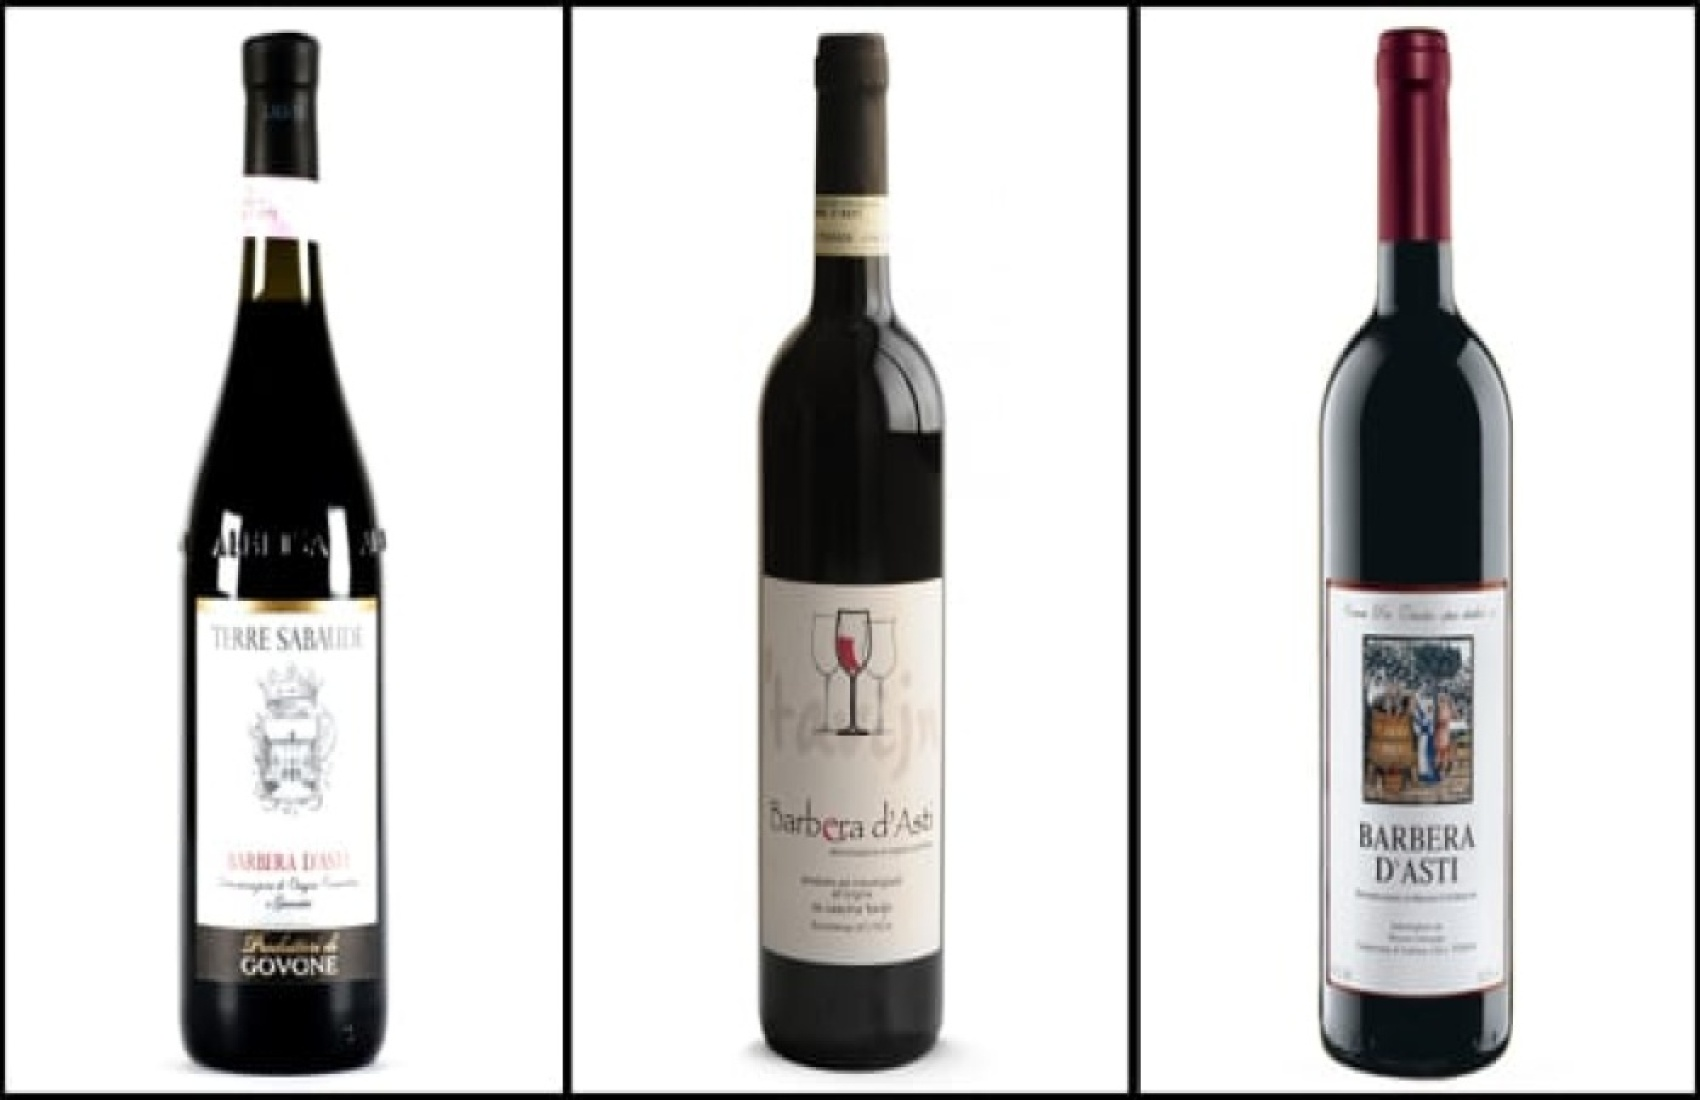wine: (176, 31, 392, 1083), (1317, 32, 1531, 1085), (760, 1, 974, 1052)
